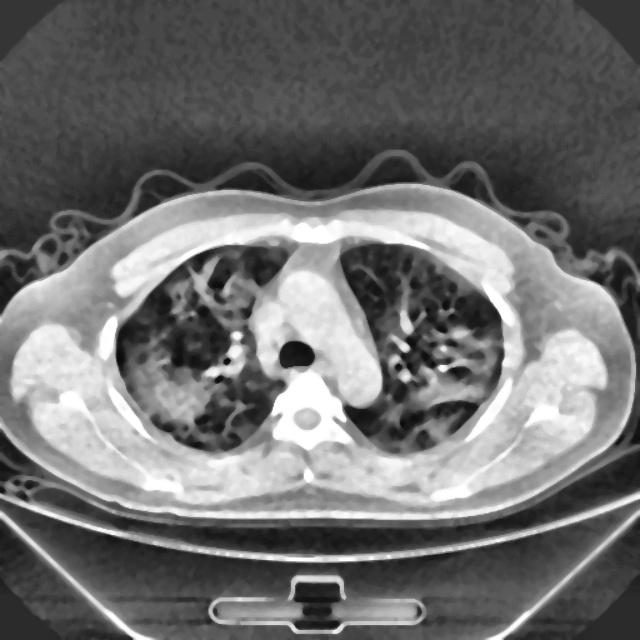covid: (1, 161, 637, 528)
